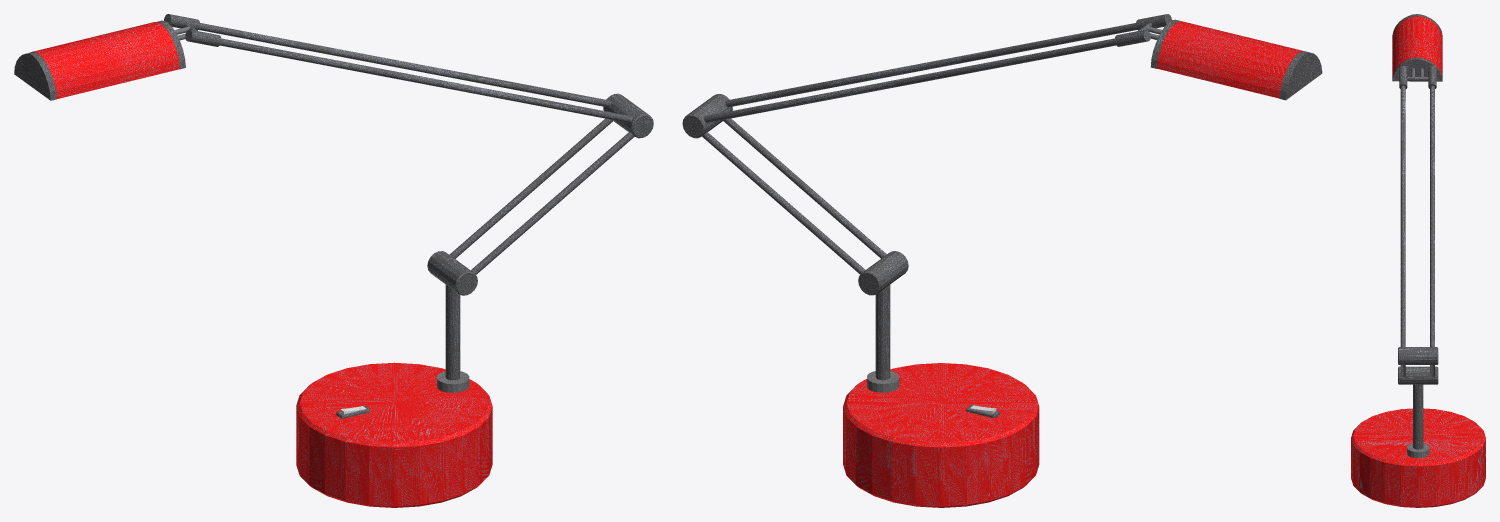
3 views of the same model, side by side, from view 1: azimuth 30°, elevation 25°; view 2: azimuth 150°, elevation 25°; view 3: azimuth 270°, elevation 25° (orthographic). The views are drawn at different scales.
Parts seen in each view (by area): view 1: ChamferCyl (×10); view 2: ChamferCyl (×10); view 3: ChamferCyl (×11).
Part boxes in pixels (x1,y1,x2,y2): ChamferCyl (×10): [14, 22, 653, 507]; ChamferCyl (×10): [682, 21, 1322, 507]; ChamferCyl (×11): [1351, 16, 1485, 507].
Bounding box in the file's own units: 148 × 41.49 × 117.
